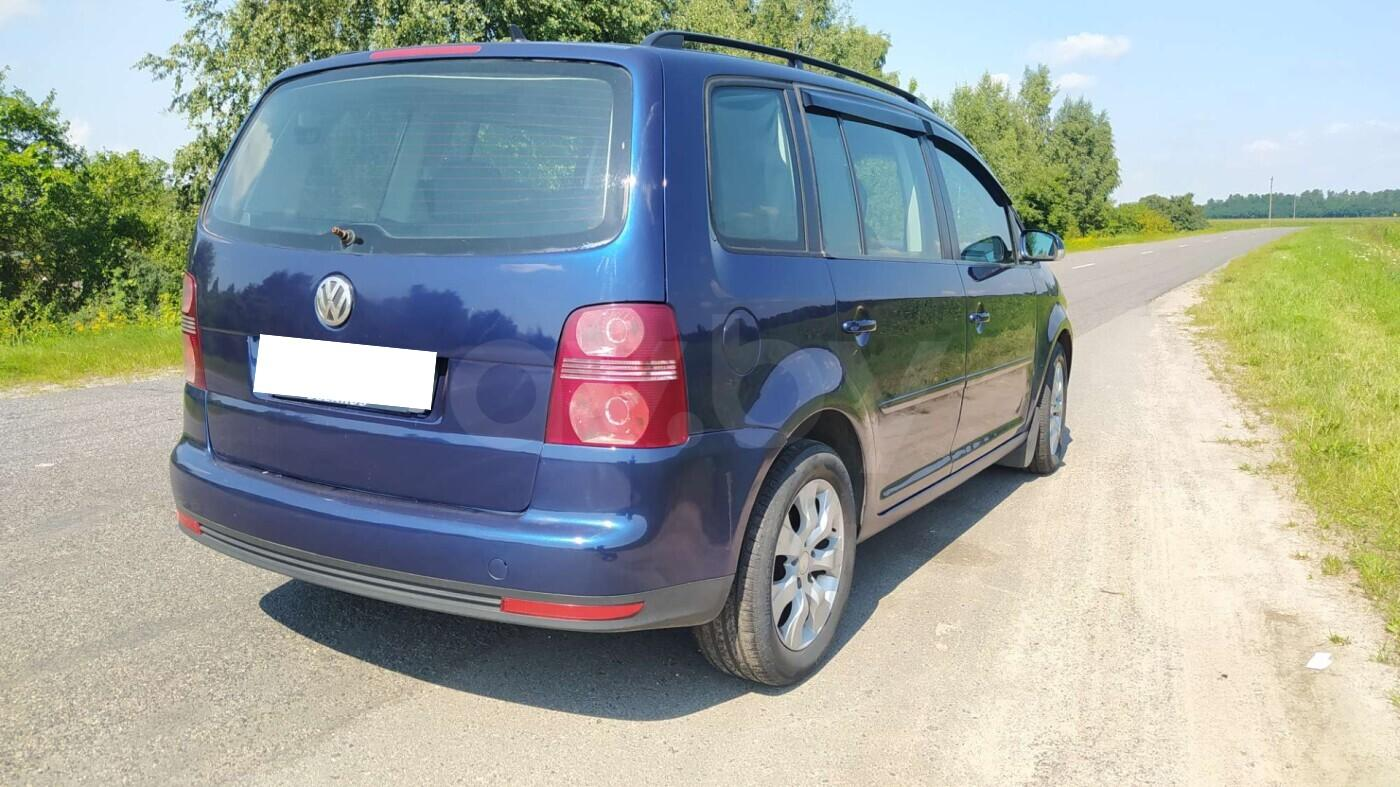Touran_2006-2010: (158, 37, 1082, 688)
